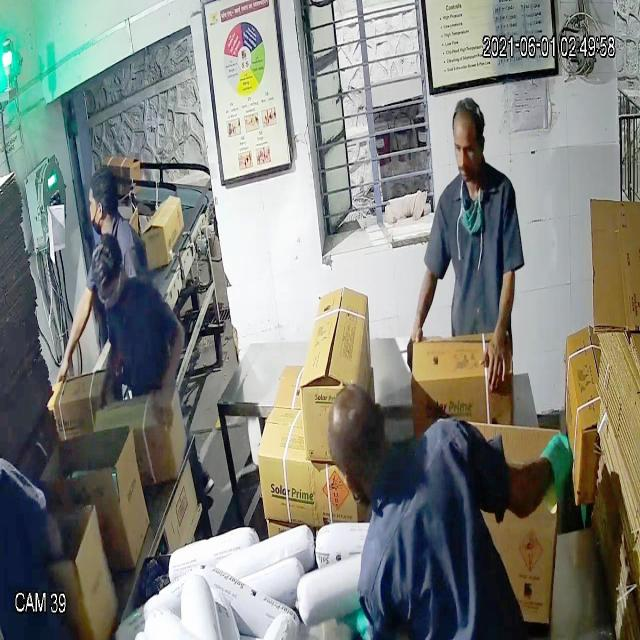glasses: (92, 276, 126, 312)
no-glass: (447, 130, 489, 164)
